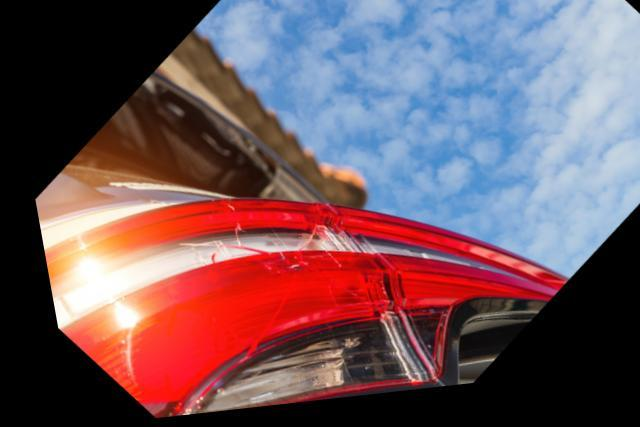lamp broken: (35, 201, 426, 420)
